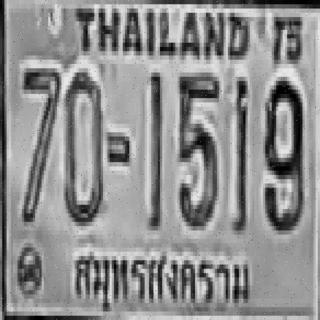N00: (64, 68, 103, 222)
N01: (146, 70, 161, 224), (148, 68, 161, 226), (234, 79, 246, 228)
N05: (178, 68, 217, 226)
N07: (22, 64, 59, 222)
N09: (263, 75, 302, 228)
P59: (72, 239, 256, 317)
